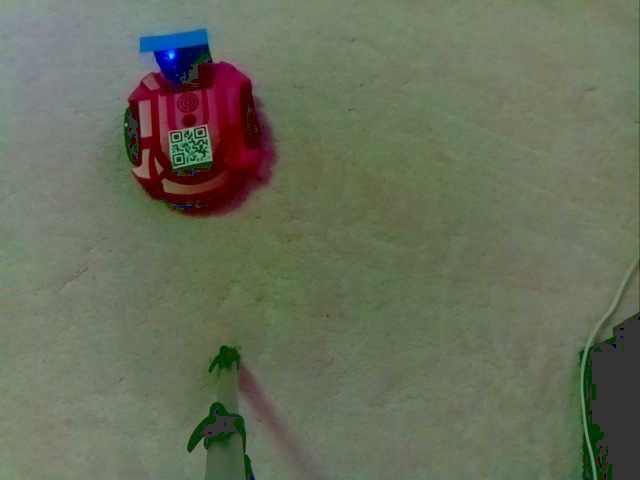board: (135, 30, 219, 92)
chassis: (123, 27, 260, 207)
